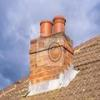chimneys: (29, 16, 73, 92)
